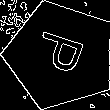P_E: (29, 30, 92, 81)
